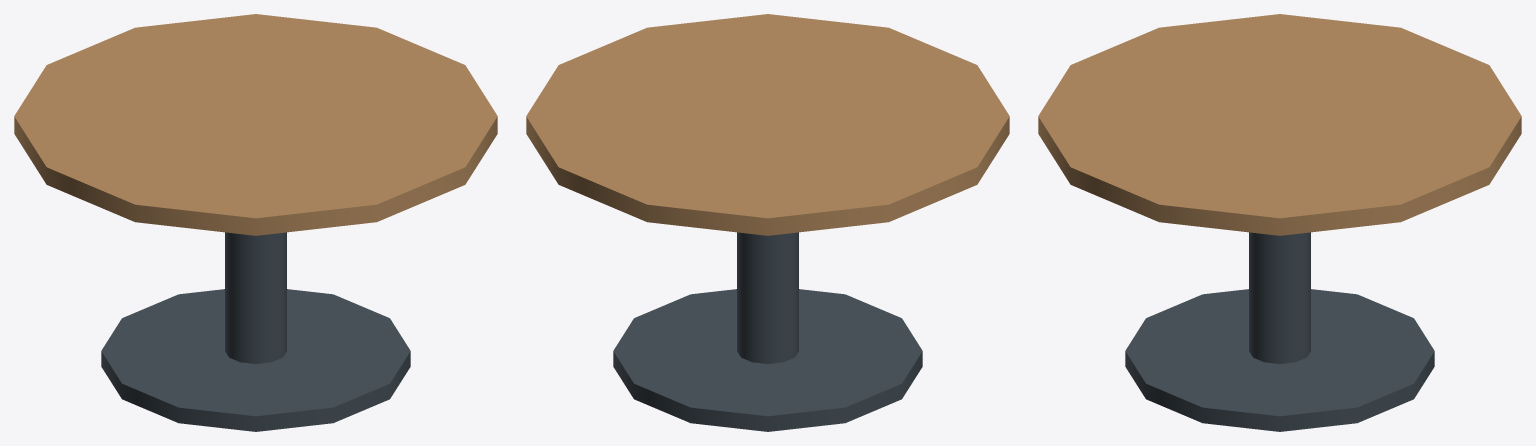
The model's file is coffeeTable-1.glb.
3 renders of one model, left to right at view 1: azimuth 30°, elevation 25°; view 2: azimuth 150°, elevation 25°; view 3: azimuth 270°, elevation 25°, orthographic.
Visible parts, largest first — view 1: coffeeTable:1:editor; view 2: coffeeTable:1:editor; view 3: coffeeTable:1:editor.
Boxes of the visible parts, x1,y1,x2,y2 form: coffeeTable:1:editor: (14, 14, 497, 431); coffeeTable:1:editor: (526, 14, 1009, 431); coffeeTable:1:editor: (1038, 14, 1521, 431).
Size of the model in its own units: 0.7 by 0.4 by 0.7.
